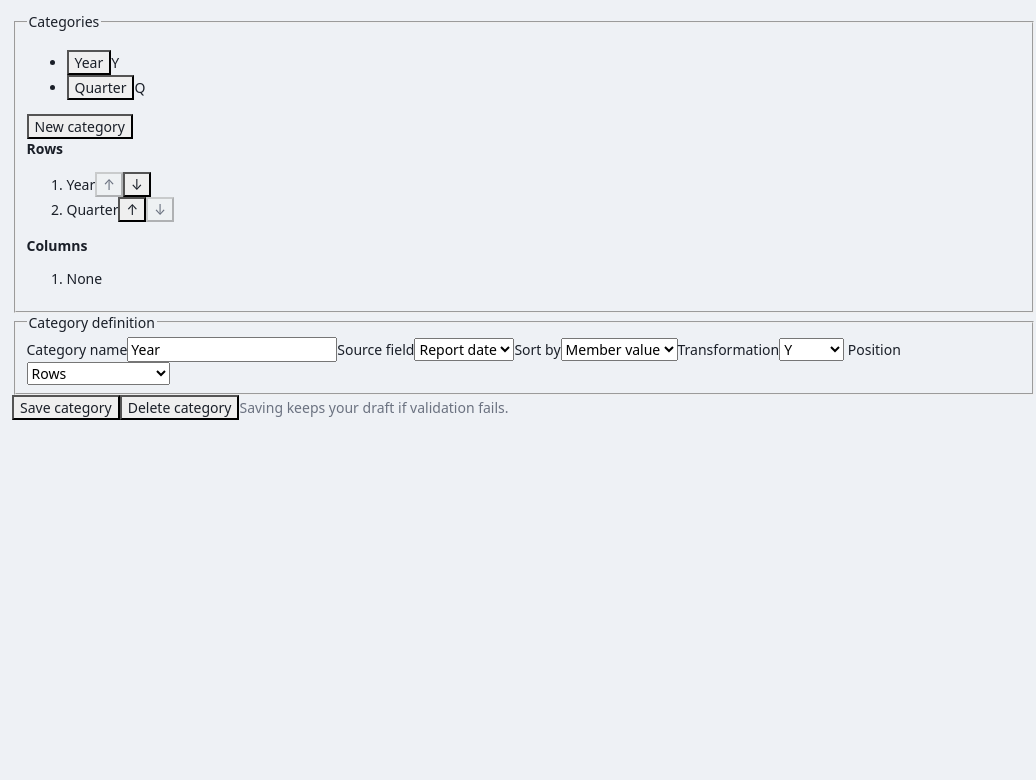
Test: requires explicit fiscal mappings rather than guessing a company calendar
The width and height of the screenshot is (1036, 780).
Select "FY" in the dropdown labelled "Transformation" at point(812, 349), box top-left (779, 338), bottom-right (844, 360)
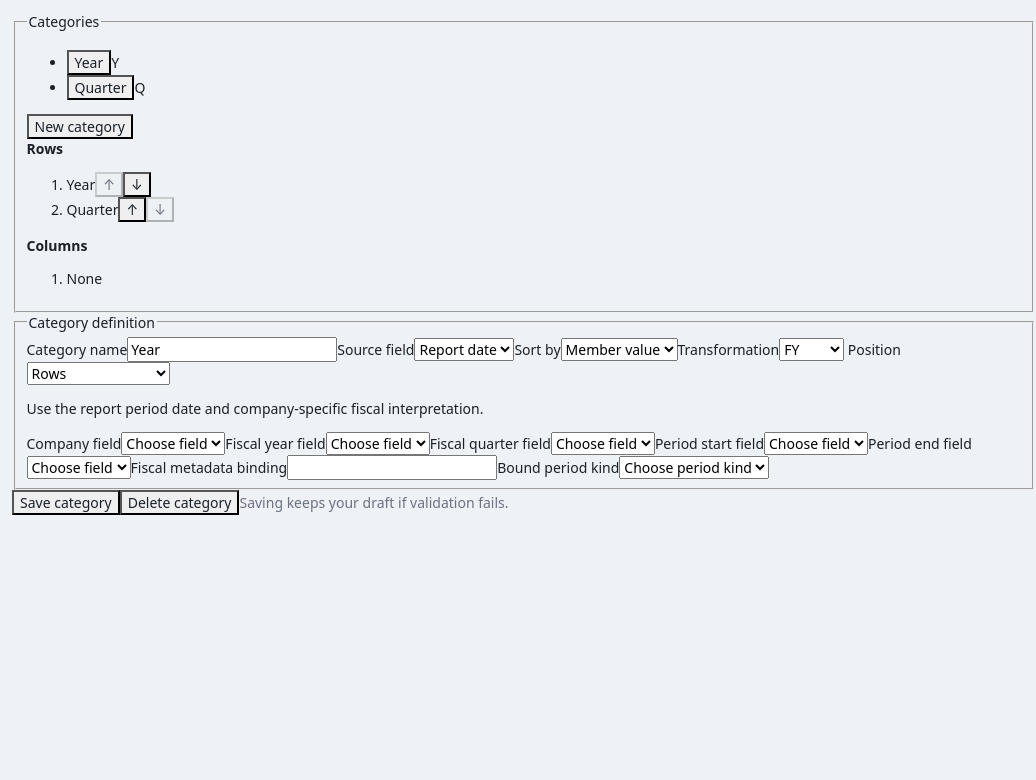
Click the button "Save category" at point(66, 503), box top-left (12, 490), bottom-right (120, 515)
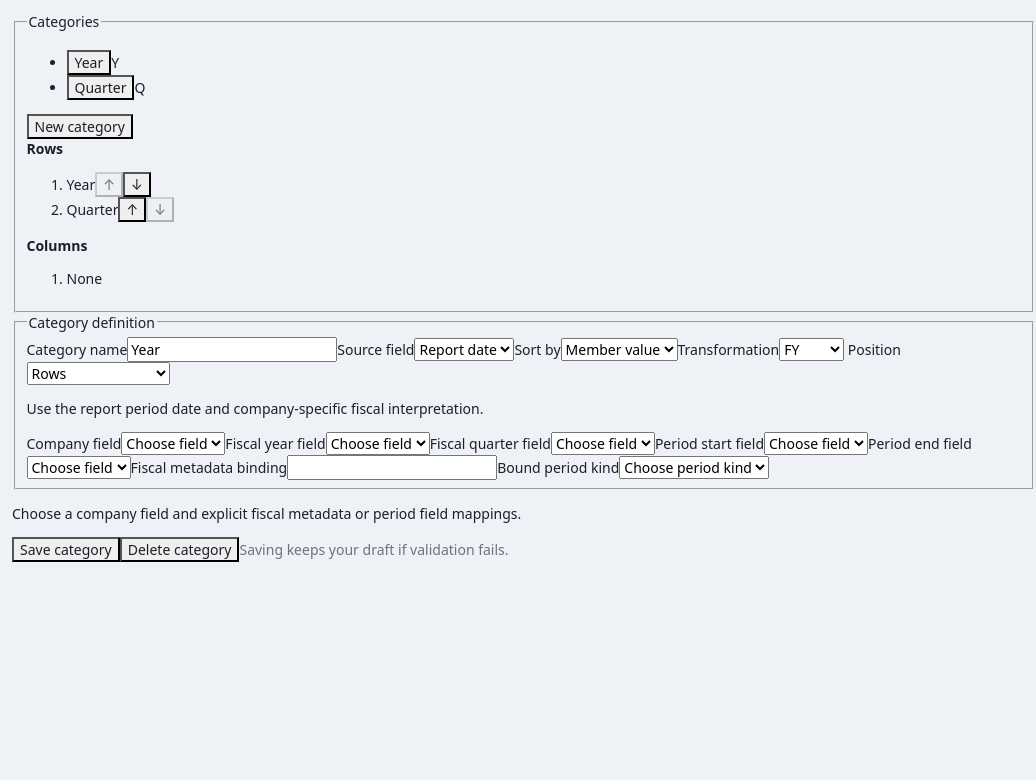
expect the dropdown labelled "Company field" is shown: met, box top-left (121, 432), bottom-right (225, 454)
expect the message shows "company": met, box top-left (12, 504), bottom-right (521, 523)
